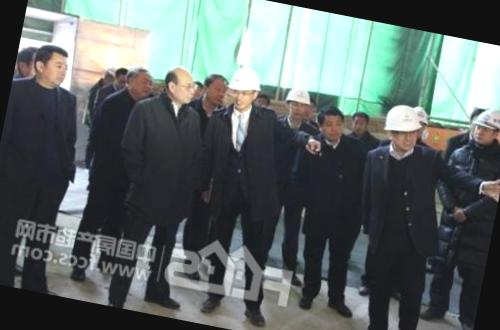no_helmet: (30, 38, 76, 92), (160, 62, 198, 108), (312, 103, 349, 146), (196, 69, 230, 110), (124, 64, 157, 104), (13, 42, 41, 87), (346, 108, 372, 138), (112, 64, 132, 92)
